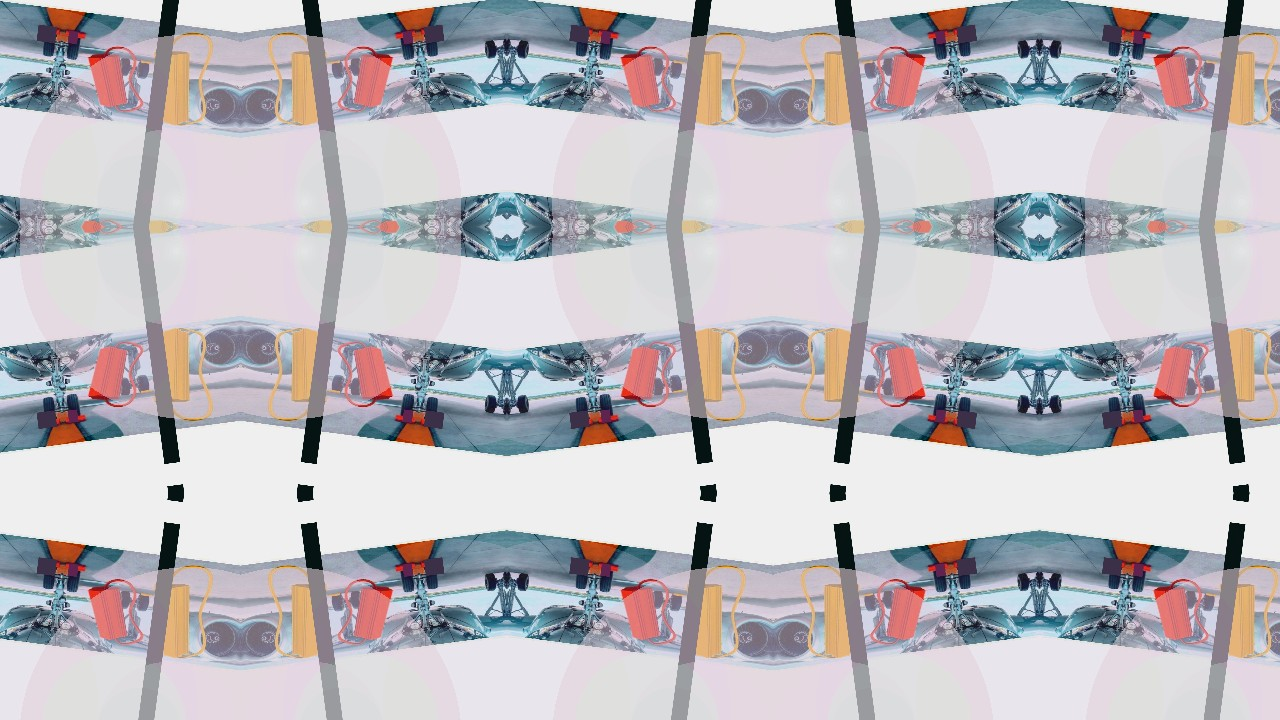chock: (145, 579, 198, 660), (282, 579, 335, 660), (678, 579, 731, 660), (816, 579, 869, 660), (1211, 579, 1264, 660), (145, 46, 198, 126), (282, 46, 335, 126), (678, 46, 731, 126), (816, 46, 869, 126), (1211, 46, 1264, 126), (145, 327, 198, 407), (282, 327, 335, 407), (678, 327, 731, 407), (816, 327, 869, 407), (1211, 327, 1264, 407), (613, 49, 667, 109), (613, 345, 667, 404), (613, 583, 667, 642), (80, 49, 133, 109), (347, 49, 400, 109), (880, 49, 933, 109), (1147, 49, 1200, 109), (80, 345, 133, 404), (347, 345, 400, 404), (880, 345, 933, 404), (1147, 345, 1200, 404), (80, 583, 133, 642), (347, 583, 400, 642), (880, 583, 933, 642), (1147, 583, 1200, 642), (36, 24, 61, 36), (419, 24, 444, 36), (570, 24, 595, 36), (952, 24, 977, 36), (1103, 24, 1128, 36), (36, 418, 61, 429), (419, 418, 444, 429), (570, 418, 595, 429), (952, 418, 977, 429), (1103, 418, 1128, 429), (36, 558, 61, 569), (419, 558, 444, 569), (570, 558, 595, 569), (952, 558, 977, 569), (1103, 558, 1128, 569), (597, 29, 620, 39), (597, 414, 620, 424), (64, 29, 86, 39), (394, 29, 416, 39), (927, 29, 949, 39), (1131, 29, 1153, 39), (64, 414, 86, 424), (394, 414, 416, 424), (927, 414, 949, 424), (1131, 414, 1153, 424), (597, 563, 620, 572), (64, 563, 86, 572), (394, 563, 416, 572), (927, 563, 949, 572), (1131, 563, 1153, 572), (672, 59, 686, 64), (672, 389, 686, 394), (672, 593, 686, 598), (139, 59, 152, 64), (328, 59, 341, 64), (861, 59, 874, 64), (1206, 59, 1219, 64), (139, 389, 152, 394), (328, 389, 341, 394), (861, 389, 874, 394), (1206, 389, 1219, 394), (139, 593, 152, 598), (328, 593, 341, 598), (861, 593, 874, 598), (1206, 593, 1219, 598)
wheel: (957, 32, 973, 57), (1107, 32, 1123, 57), (957, 396, 973, 421), (1107, 396, 1123, 421), (957, 566, 973, 590), (1107, 566, 1123, 590), (41, 32, 56, 57), (424, 32, 439, 57), (574, 32, 589, 57), (41, 396, 56, 421), (424, 396, 439, 421), (574, 396, 589, 421), (65, 36, 80, 60), (400, 36, 415, 60), (599, 36, 614, 60), (933, 36, 948, 60), (1132, 36, 1147, 60), (65, 393, 80, 417), (400, 393, 415, 417), (599, 393, 614, 417), (933, 393, 948, 417), (1132, 393, 1147, 417), (41, 566, 56, 590), (65, 569, 80, 593), (424, 566, 439, 590), (400, 569, 415, 593), (574, 566, 589, 590), (599, 569, 614, 593), (933, 569, 948, 593), (1132, 569, 1147, 593), (483, 573, 498, 593), (1016, 573, 1031, 593), (1049, 573, 1064, 593), (483, 40, 498, 59), (1016, 40, 1031, 59), (1049, 40, 1064, 59), (483, 394, 498, 413), (1016, 394, 1031, 413), (1049, 394, 1064, 413), (516, 573, 530, 593), (117, 58, 131, 77), (135, 61, 149, 80), (349, 58, 363, 77), (331, 61, 345, 80), (516, 40, 530, 59), (668, 61, 682, 80), (864, 61, 878, 80), (1202, 61, 1216, 80), (117, 376, 131, 395), (135, 374, 149, 393), (349, 376, 363, 395), (331, 374, 345, 393), (516, 394, 530, 413), (668, 374, 682, 393), (864, 374, 878, 393), (1202, 374, 1216, 393), (117, 591, 131, 610), (135, 594, 149, 613), (349, 591, 363, 610), (331, 594, 345, 613), (668, 594, 682, 613), (864, 594, 878, 613), (1202, 594, 1216, 613), (651, 58, 664, 77), (883, 58, 896, 77), (1184, 58, 1197, 77), (651, 376, 664, 395), (883, 376, 896, 395), (1184, 376, 1197, 395), (651, 591, 664, 610), (883, 591, 896, 610), (1184, 591, 1197, 610), (502, 39, 507, 57), (507, 39, 512, 57), (1035, 39, 1040, 57), (1040, 39, 1045, 57), (502, 572, 507, 590), (507, 572, 512, 590), (1035, 572, 1040, 590), (1040, 572, 1045, 590), (502, 397, 507, 414), (507, 397, 512, 414), (1035, 397, 1040, 414), (1040, 397, 1045, 414)
